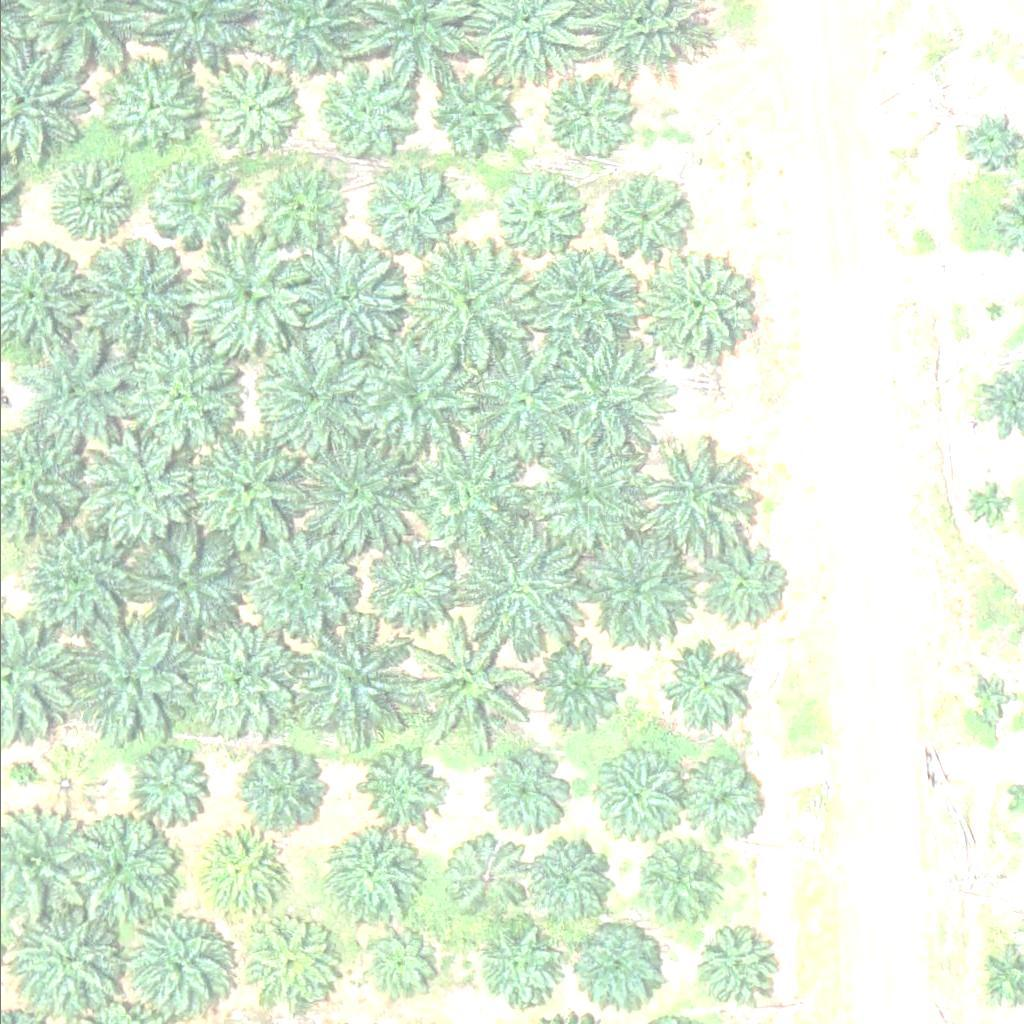Kelapa_Sawit: (633, 438, 759, 563), (525, 430, 651, 555), (397, 435, 523, 560), (285, 435, 411, 560), (175, 429, 301, 554), (11, 333, 137, 458), (115, 329, 241, 454), (348, 336, 474, 461), (456, 341, 582, 466), (536, 335, 662, 460), (516, 239, 642, 364), (287, 238, 413, 363), (182, 234, 308, 359), (454, 520, 580, 645), (228, 520, 354, 645), (121, 517, 247, 642), (12, 518, 138, 643), (57, 612, 183, 737), (285, 620, 411, 745), (401, 617, 527, 742), (78, 419, 203, 544), (246, 333, 371, 458), (406, 250, 531, 375), (576, 524, 701, 649), (183, 615, 308, 740), (642, 244, 756, 357), (71, 237, 184, 350), (67, 812, 181, 924), (310, 62, 411, 162), (200, 57, 301, 157), (100, 54, 201, 154), (540, 64, 640, 164), (315, 830, 415, 930), (154, 158, 242, 246), (373, 169, 461, 257), (367, 545, 455, 633), (588, 748, 676, 836), (473, 753, 561, 841), (361, 741, 449, 829), (244, 745, 332, 833), (196, 831, 284, 919), (238, 917, 326, 1005), (534, 645, 623, 732), (571, 919, 660, 1006), (680, 751, 768, 838), (526, 838, 614, 925), (50, 161, 138, 248), (255, 169, 343, 256), (496, 176, 584, 263), (595, 175, 683, 262), (423, 69, 511, 156), (690, 542, 778, 629), (664, 640, 752, 727), (125, 744, 213, 831), (445, 833, 533, 920), (634, 841, 722, 928), (691, 927, 779, 1014), (464, 924, 552, 1011), (361, 929, 436, 1004), (956, 109, 1019, 172), (37, 751, 100, 813), (963, 675, 1014, 725), (963, 482, 1013, 532)
